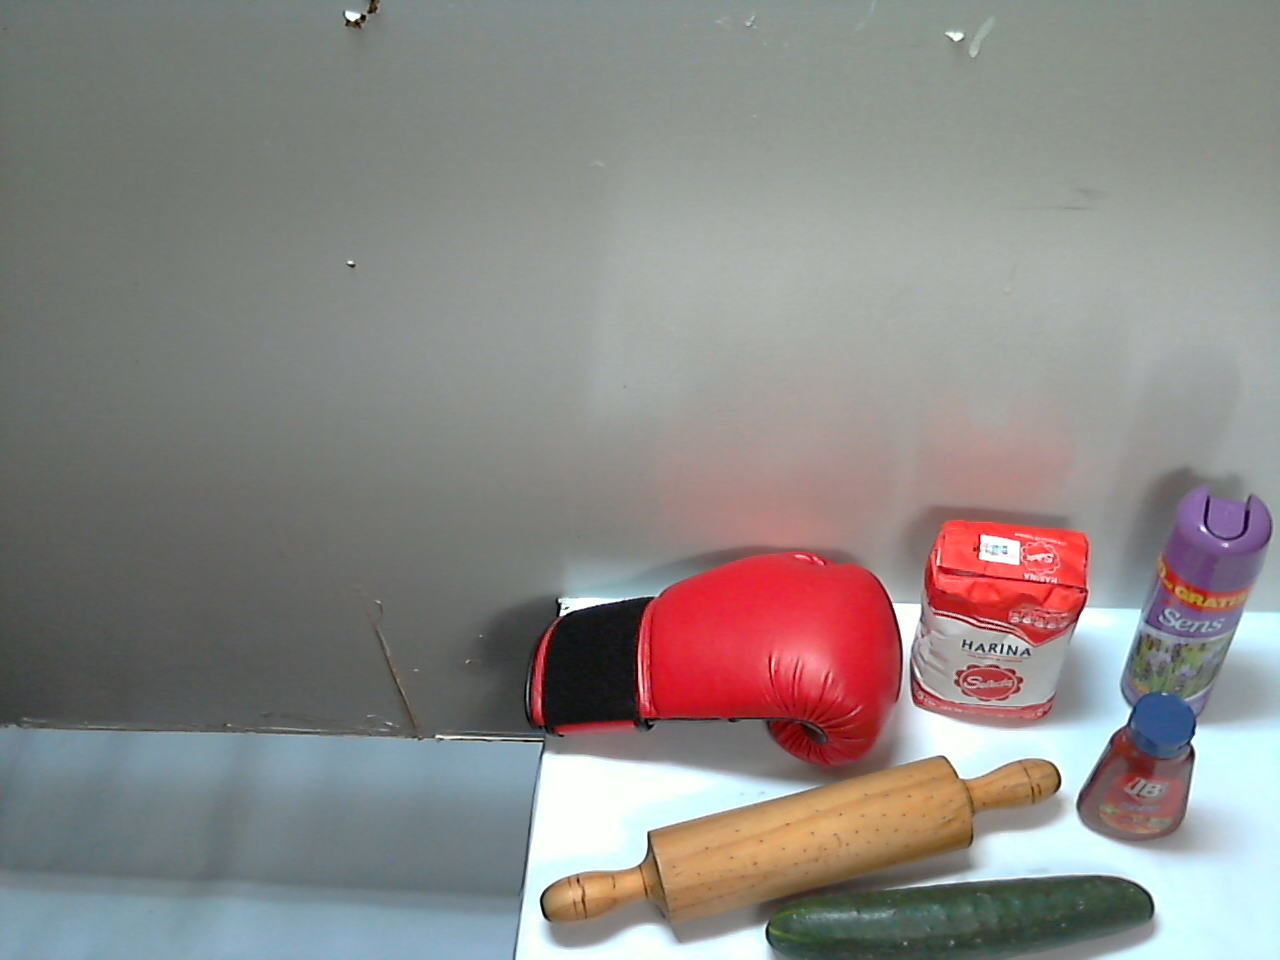borrador: (529, 795, 758, 922)
greda: (949, 663, 1192, 872)
harina: (485, 534, 663, 764)
ketchup: (673, 600, 785, 763)
lata: (807, 628, 916, 798)
pelota: (808, 809, 914, 922)
